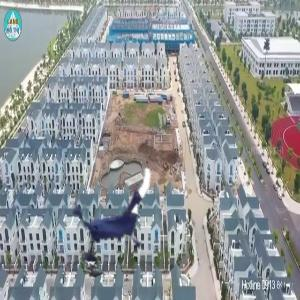drone: (65, 162, 168, 265)
